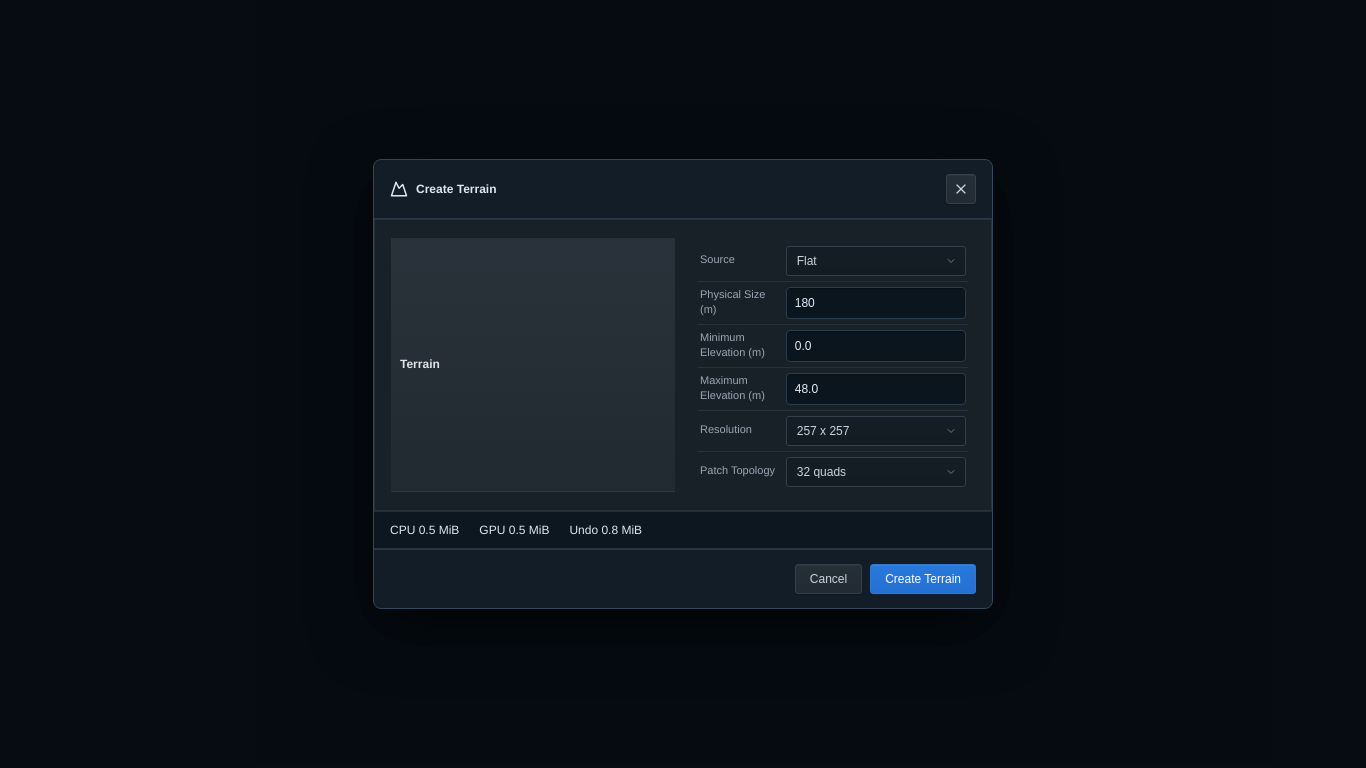
CreateTerrainDialog › shows procedural seed controls and prevents operations over the undo budget
Click the dropdown named "Source": (876,261) [786,246,966,276]
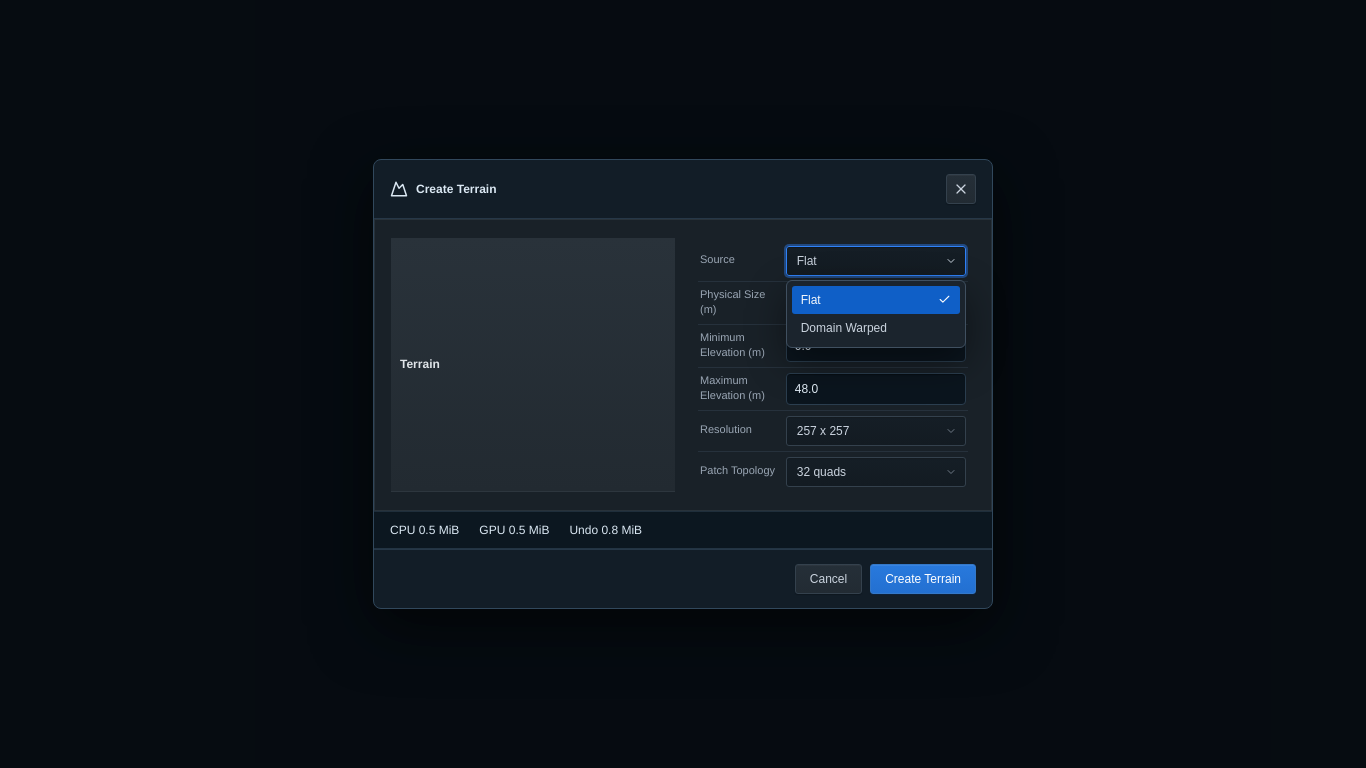
Click the option "Domain Warped": (876,328) [792,314,960,342]
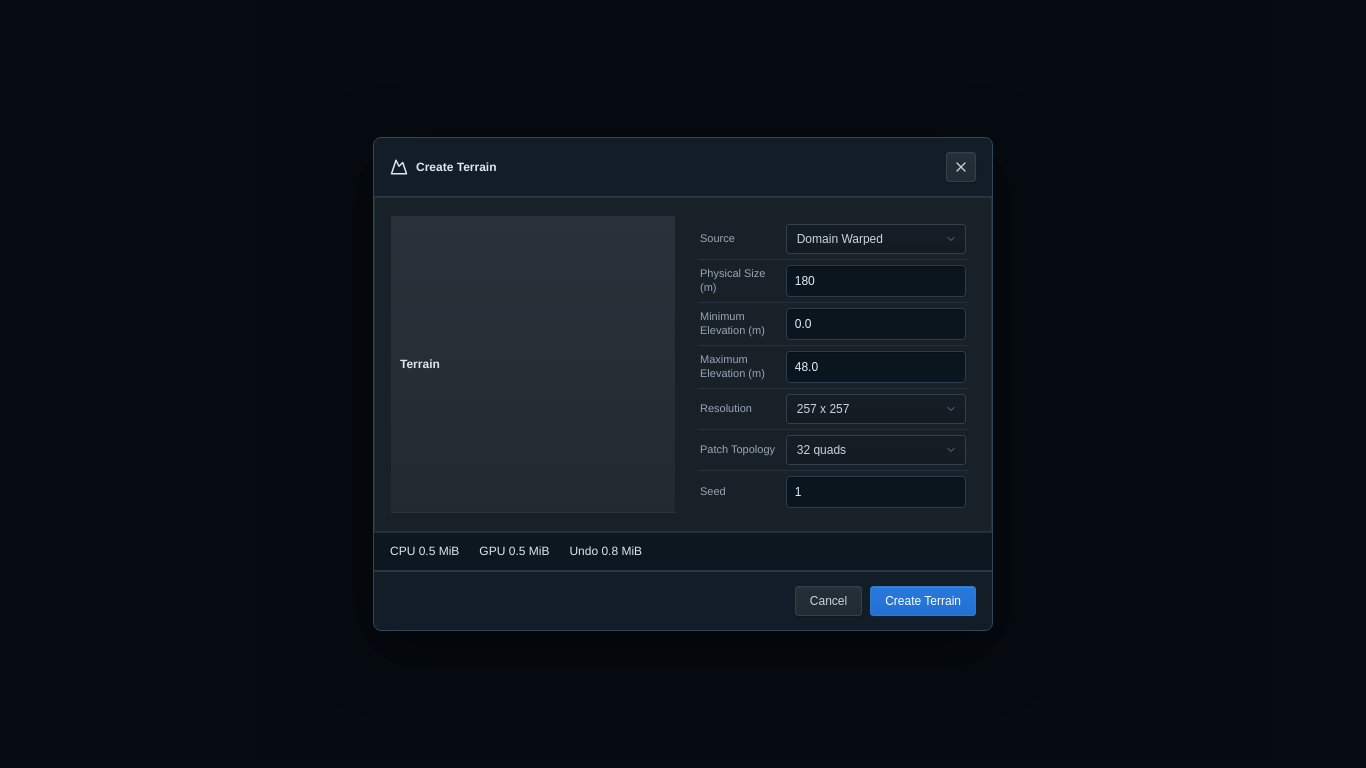
Now the field named "Seed" is shown, box [786,476,966,508]
Click the dropdown named "Resolution": (876,409) [786,394,966,424]
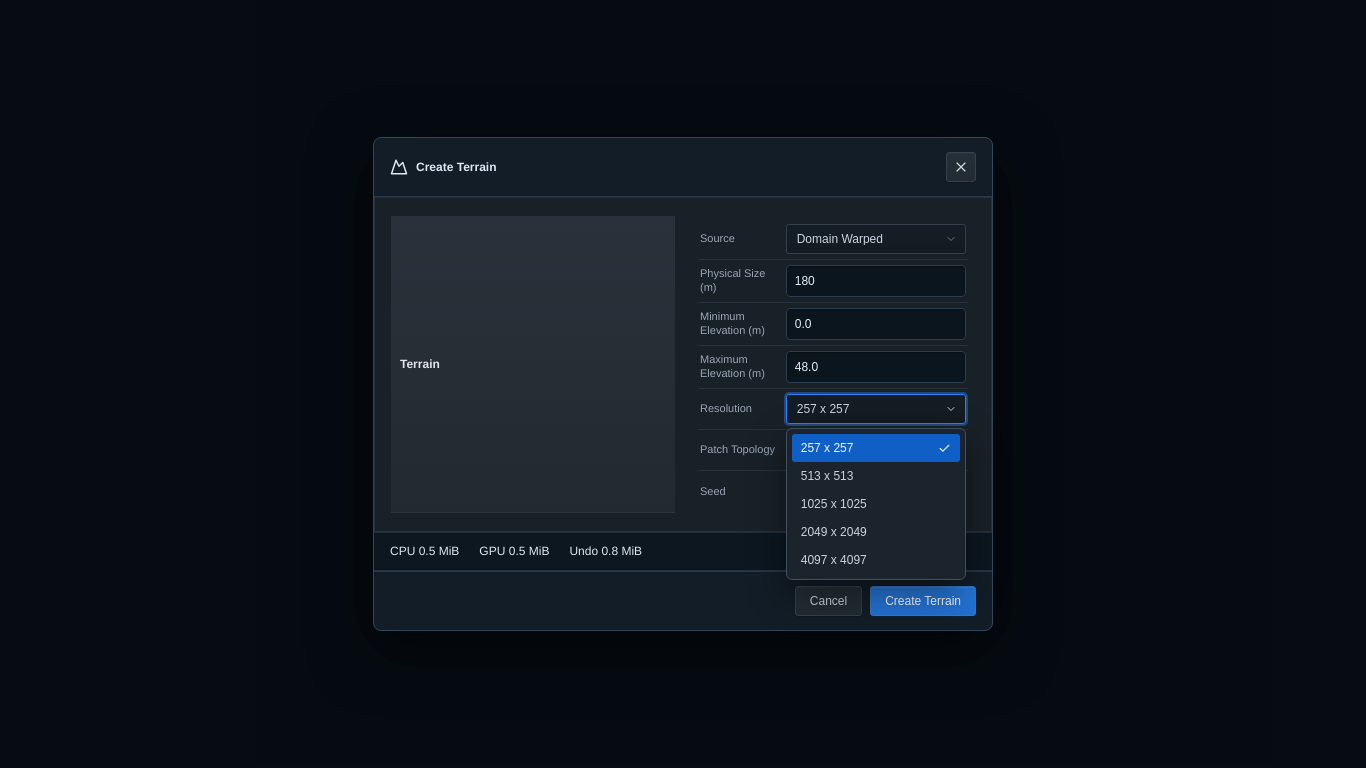
Click the option "4097 x 4097": (876,560) [792,546,960,574]
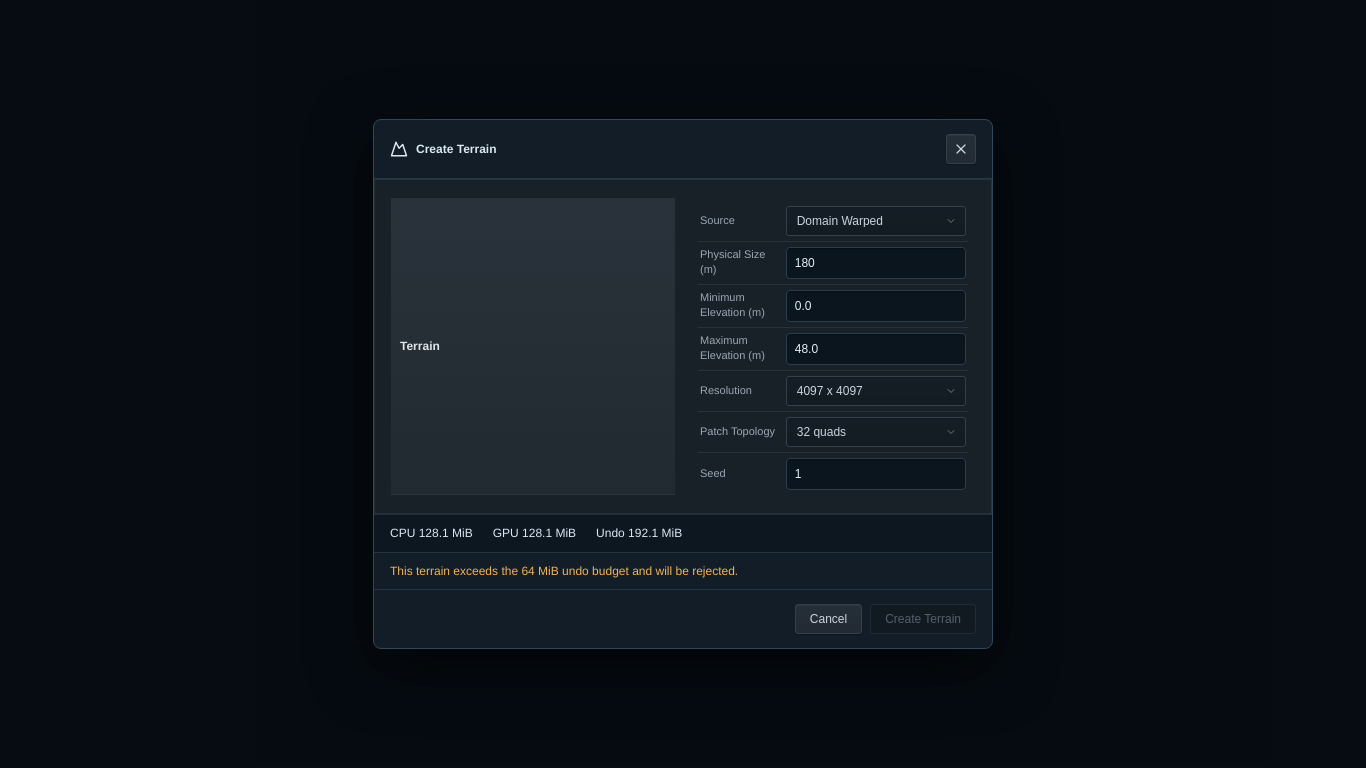
Now the text "exceeds the 64 MiB undo budget" is shown, box [390,564,738,578]
Now the button "Create Terrain" is disabled, box [870,604,976,634]
